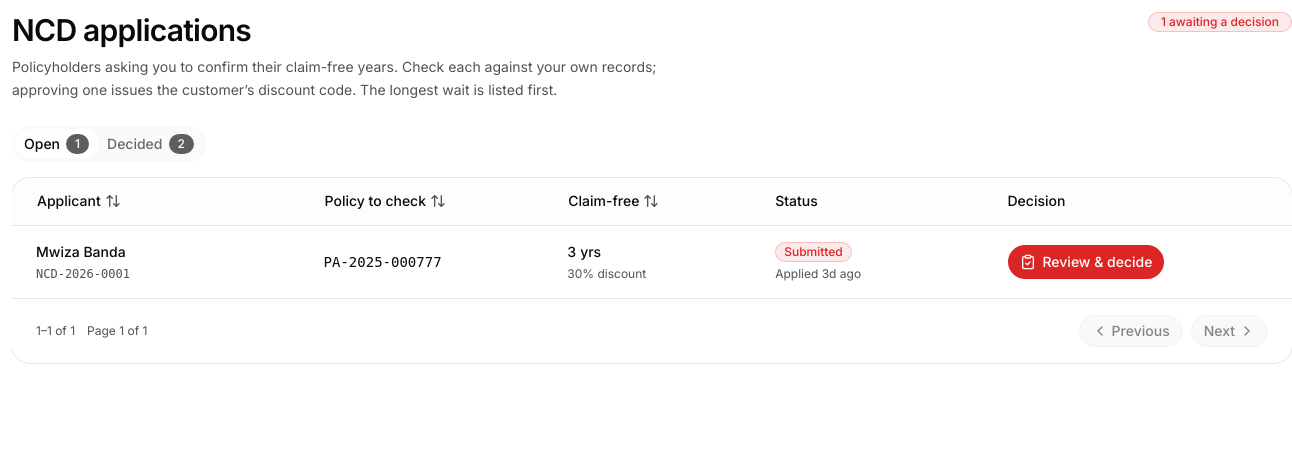
Test: NcdTab › shows decided applications with the code that was issued
Click the tab "Decided 2" at point(150, 144), box [98, 129, 203, 158]
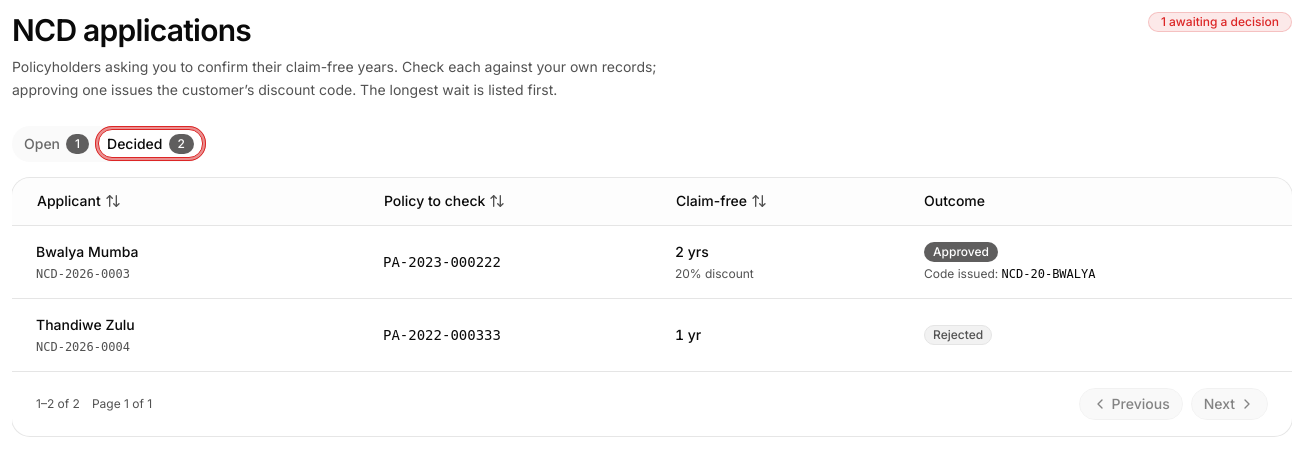
Now the row "Bwalya Mumba" shows "NCD-20-BWALYA", box [1002, 267, 1096, 281]
Now the row "Bwalya Mumba" shows "20% discount", box [675, 266, 754, 281]
Now the row "Thandiwe Zulu NCD-2026-0004 PA-2022-000333 1 yr Rejected" is shown, box [12, 298, 1291, 371]
